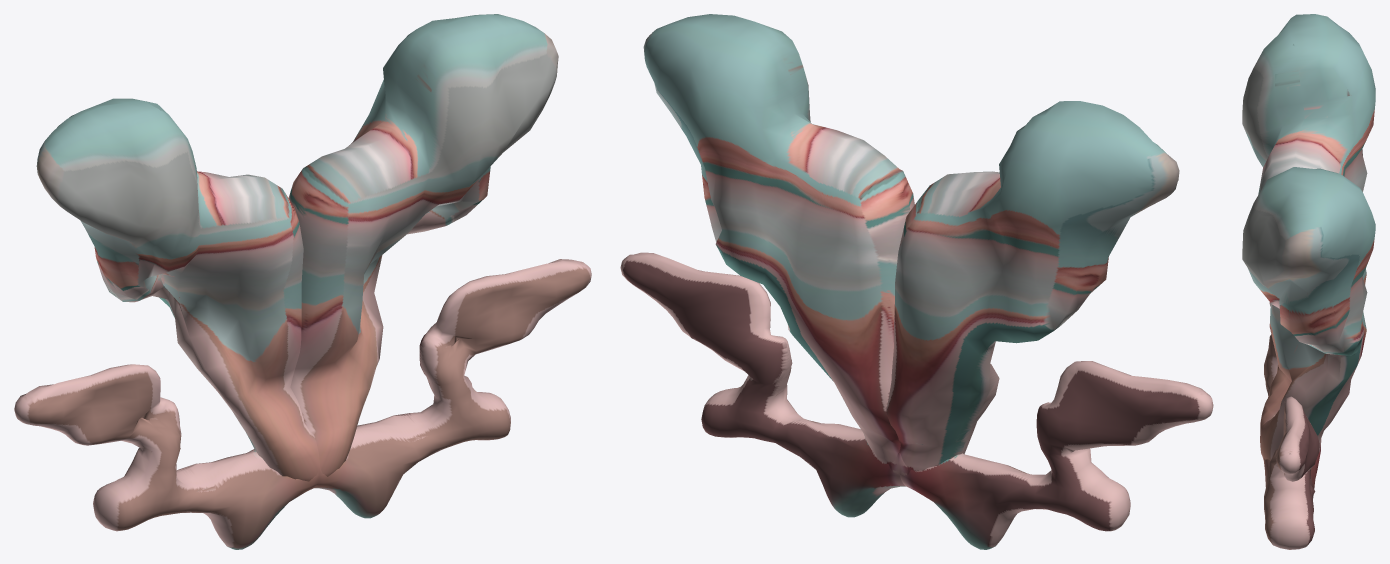
The model's file is LowPolyToHighPolySculptNormalMapExport.fbx.
3 renders of one model, left to right at view 1: azimuth 30°, elevation 25°; view 2: azimuth 150°, elevation 25°; view 3: azimuth 270°, elevation 25°, orthographic. The views are drawn at different scales.
Visible parts, largest first — view 1: MaryLowRes; view 2: MaryLowRes; view 3: MaryLowRes.
Part boxes in pixels (box(x1,y1,x2,y2)): MaryLowRes: box(14, 14, 591, 549); MaryLowRes: box(620, 14, 1213, 549); MaryLowRes: box(1242, 14, 1375, 549).
Bounding box in the file's own units: 861 × 657 × 195.
